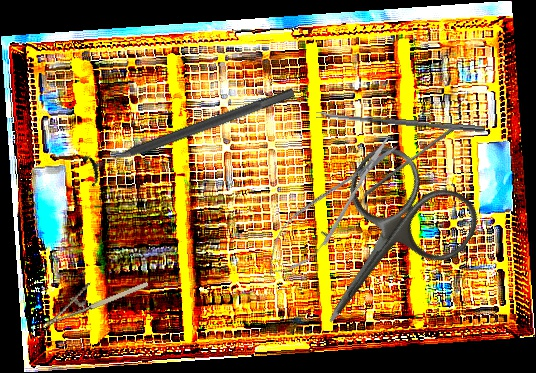Fixation Ring: (81, 76, 300, 189)
Iris Scissors: (274, 136, 489, 360)
Micro Scissor: (252, 124, 411, 290)
Needle Holder: (35, 264, 150, 328)
Pusher: (362, 123, 456, 201)
Surgical Spoon: (316, 110, 485, 133)
